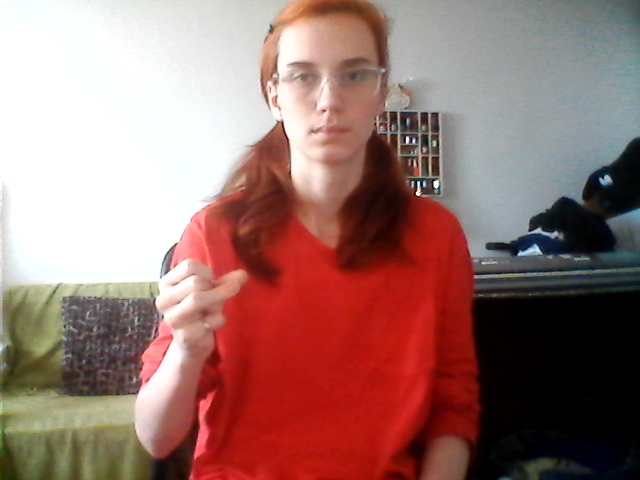r: (145, 253, 267, 369)
